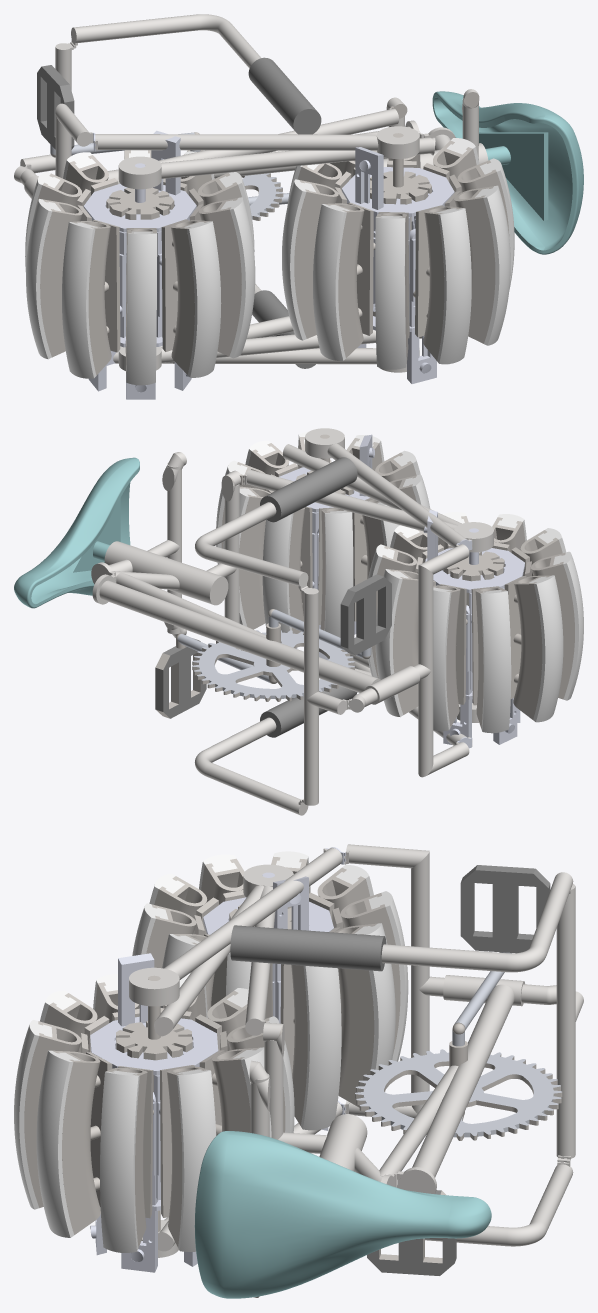
File: Bike Unfolded.gltf
3 views of the same model, one above another, from view 1: azimuth 30°, elevation 25°; view 2: azimuth 150°, elevation 25°; view 3: azimuth 270°, elevation 25° (orthographic). The views are drawn at different scales.
Visible parts, largest first — view 1: Body_1 (×22), Body_6 (×13), Body_2 (×5), 3DGeom-1649, Body_3 (×4), 3DGeom-1501, 3DGeom-1502, 3DGeom-1345, 3DGeom-1348, Body_8, 3DGeom-1521, 3DGeom-1347 (+1 smaller); view 2: Body_1 (×20), Body_6 (×8), Body_3 (×2), 3DGeom-1348, 3DGeom-1345, Body_2 (×5), Body_8, 3DGeom-1649, 3DGeom-1347, 3DGeom-1522, 3DGeom-1501, 3DGeom-1502 (+4 smaller); view 3: Body_1 (×22), Body_6 (×12), Body_3 (×4), 3DGeom-1345, 3DGeom-1347, Body_2 (×6), 3DGeom-1348, Body_8, 3DGeom-1502, 3DGeom-1501, 3DGeom-1649, 3DGeom-1343 (+3 smaller).
Part boxes in pixels (x1=…): Body_1 (×22): x1=20, y1=43, x2=583, y2=375; Body_6 (×13): x1=25, y1=158, x2=514, y2=385; Body_2 (×5): x1=92, y1=202, x2=443, y2=372; 3DGeom-1649: x1=118, y1=108, x2=434, y2=189; Body_3 (×4): x1=14, y1=126, x2=436, y2=383; 3DGeom-1501: x1=70, y1=14, x2=261, y2=68; 3DGeom-1502: x1=248, y1=57, x2=321, y2=134; 3DGeom-1345: x1=37, y1=65, x2=74, y2=149; 3DGeom-1348: x1=214, y1=89, x2=488, y2=178; Body_8: x1=55, y1=103, x2=93, y2=178; 3DGeom-1521: x1=252, y1=290, x2=315, y2=368; 3DGeom-1347: x1=163, y1=159, x2=282, y2=219; Body_1 (×20): x1=14, y1=428, x2=574, y2=805; Body_6 (×8): x1=262, y1=510, x2=583, y2=733; Body_3 (×2): x1=99, y1=580, x2=471, y2=744; 3DGeom-1348: x1=91, y1=452, x2=265, y2=637; 3DGeom-1345: x1=155, y1=574, x2=391, y2=718; Body_2 (×5): x1=300, y1=498, x2=526, y2=705; Body_8: x1=418, y1=544, x2=469, y2=777; 3DGeom-1649: x1=243, y1=444, x2=493, y2=552; 3DGeom-1347: x1=192, y1=630, x2=354, y2=698; 3DGeom-1522: x1=194, y1=717, x2=308, y2=815; 3DGeom-1501: x1=195, y1=502, x2=308, y2=591; 3DGeom-1502: x1=260, y1=457, x2=357, y2=522; Body_1 (×22): x1=24, y1=848, x2=583, y2=1298; Body_6 (×12): x1=14, y1=891, x2=408, y2=1252; Body_3 (×4): x1=118, y1=876, x2=556, y2=1272; 3DGeom-1345: x1=367, y1=865, x2=550, y2=1275; 3DGeom-1347: x1=355, y1=1049, x2=561, y2=1137; Body_2 (×6): x1=86, y1=964, x2=436, y2=1218; 3DGeom-1348: x1=249, y1=1060, x2=458, y2=1297; Body_8: x1=344, y1=844, x2=429, y2=1118; 3DGeom-1502: x1=230, y1=925, x2=386, y2=971; 3DGeom-1501: x1=381, y1=872, x2=573, y2=972; 3DGeom-1649: x1=154, y1=864, x2=293, y2=1036; 3DGeom-1343: x1=355, y1=1022, x2=562, y2=1263.
Bounding box in the file's own units: 0.7148 × 0.341 × 0.5709.
